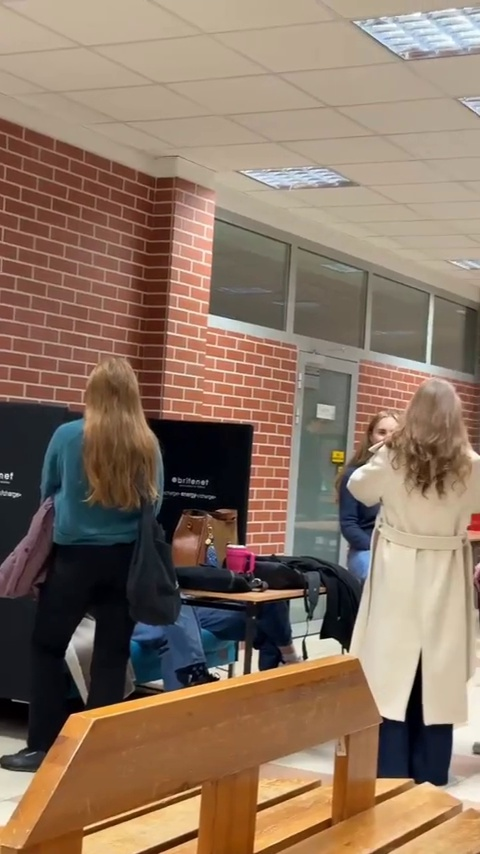no vest: (338, 369, 480, 729), (49, 351, 183, 724)
